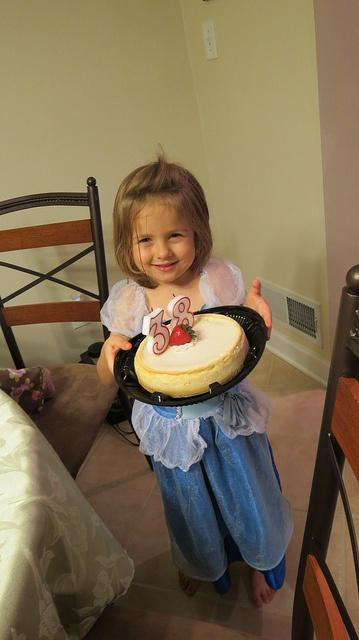Kursi: (0, 175, 122, 490)
